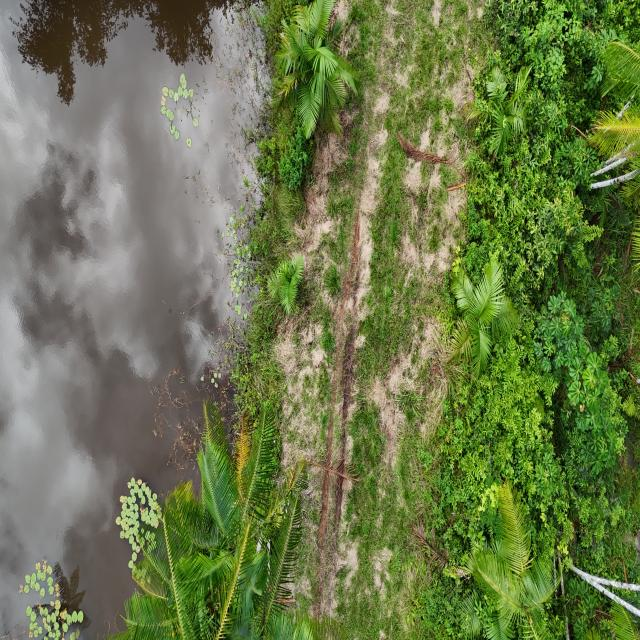vegetation: (106, 395, 318, 638)
